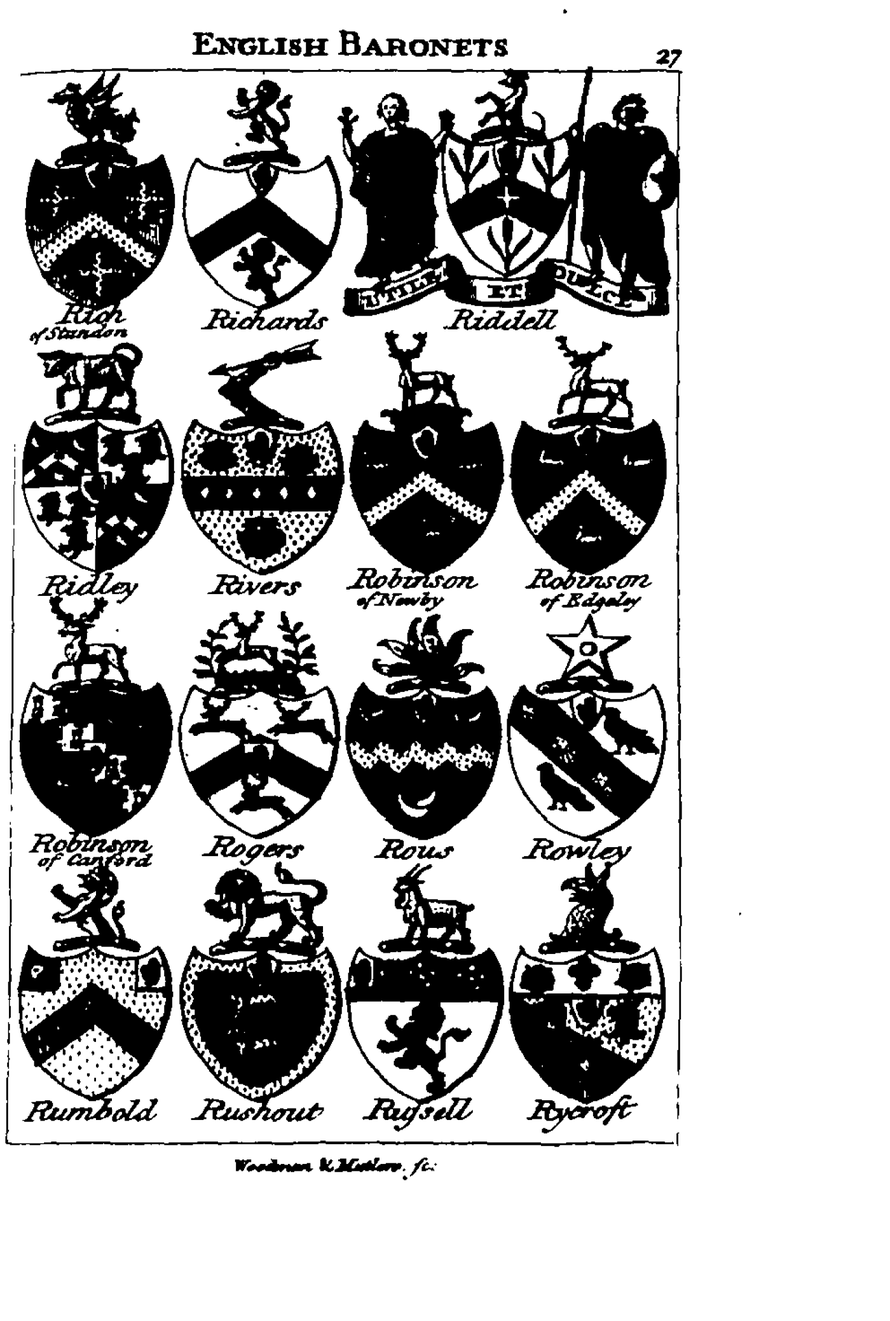coat_of_arms: (335, 68, 683, 350)
